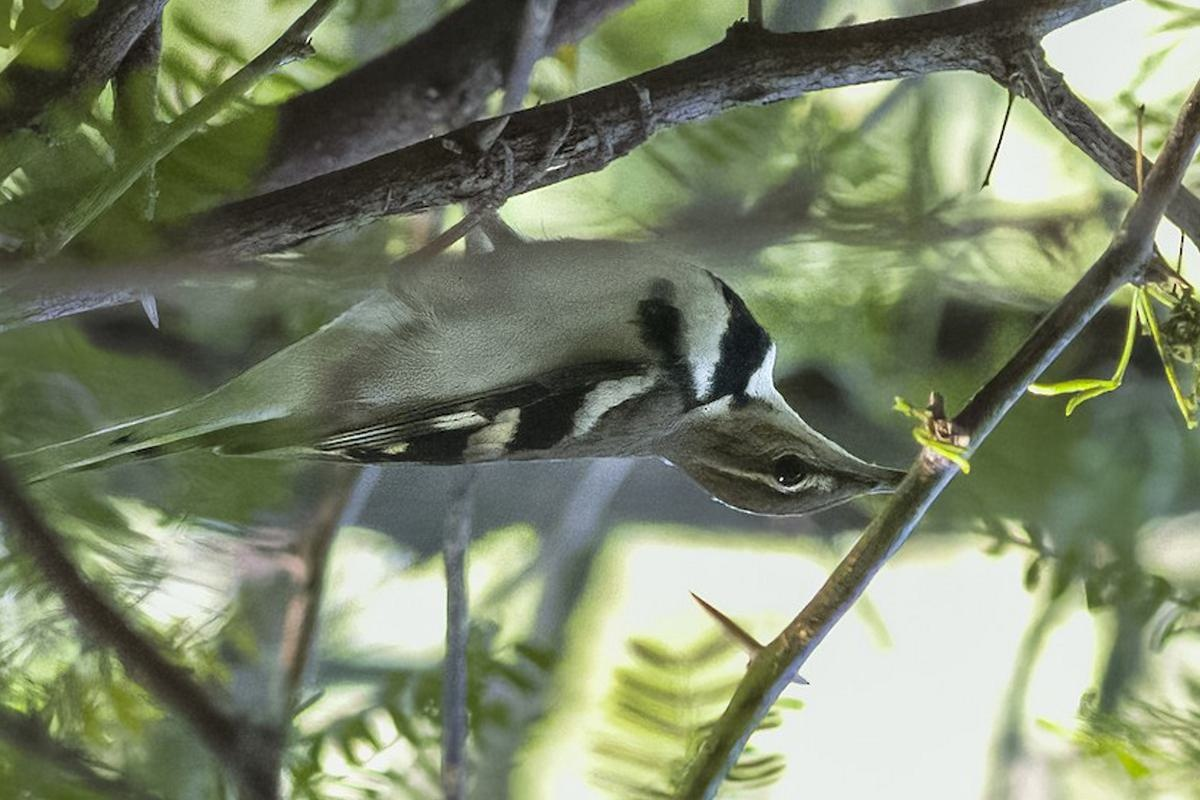wagtail: (77, 220, 928, 535)
